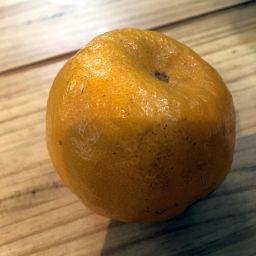Ripe: (46, 25, 237, 225)
